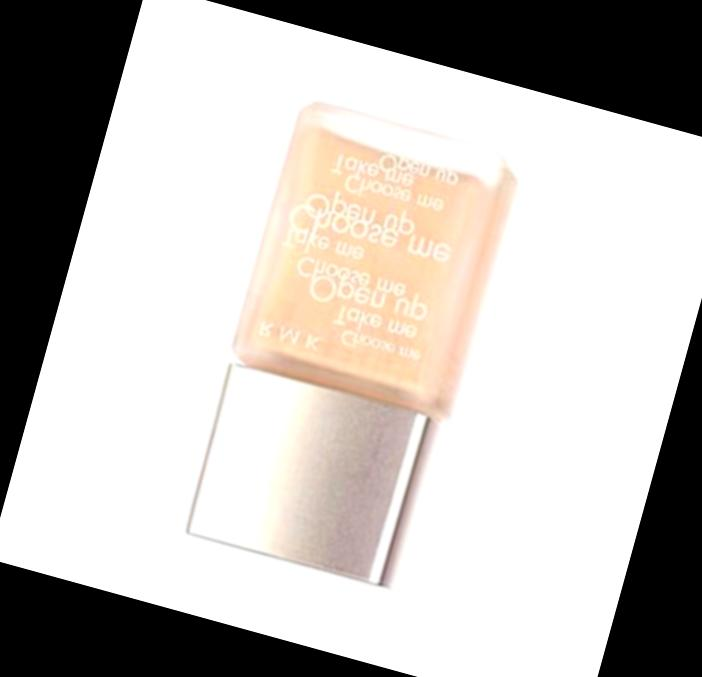cosmetic: (175, 93, 530, 597)
